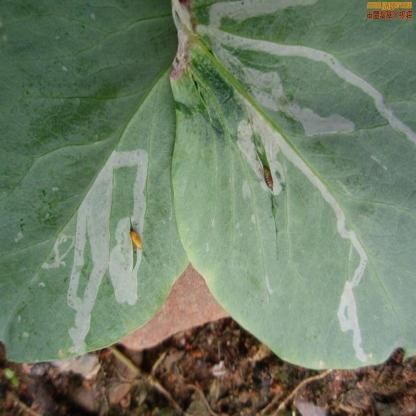whorl-maggot: (258, 162, 280, 196), (128, 221, 146, 254)
